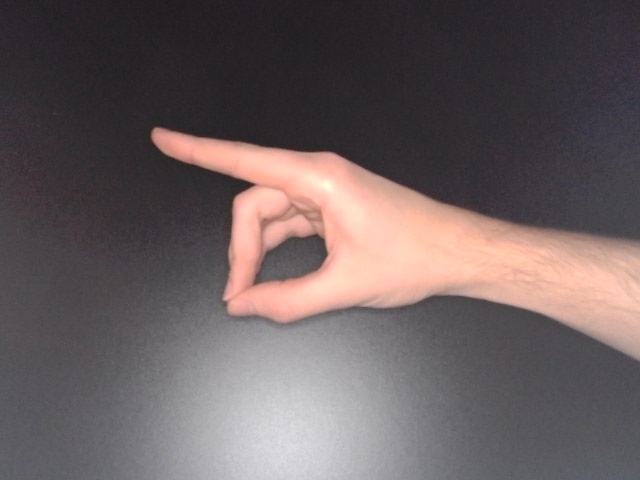p: (146, 122, 516, 330)
